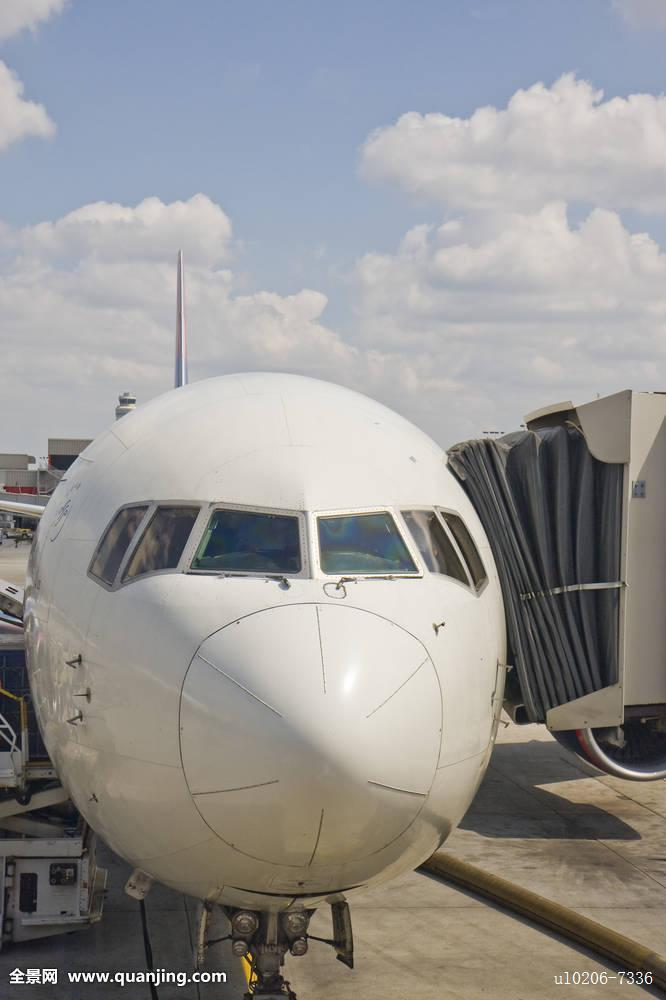airplane: (19, 251, 522, 933)
